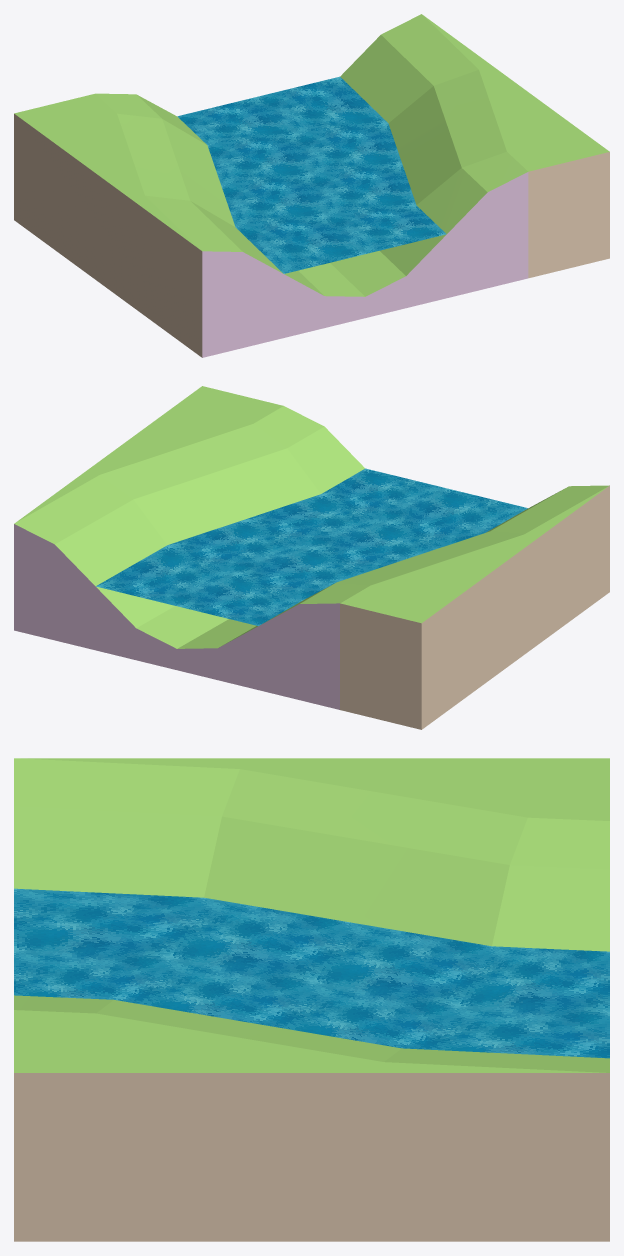
File: River_Esse_Narrow_Gentle_Swerve_Right.glb
The picture shows the model from 3 angles, top to bottom: view 1: azimuth 30°, elevation 25°; view 2: azimuth 150°, elevation 25°; view 3: azimuth 270°, elevation 25°; orthographic projection. The views are drawn at different scales.
Parts seen in each view (by area): view 1: Grass_Hill_Sharp_Esse_4x3 (×2), Terrain_Water_River_Esse_CW_3x4; view 2: Grass_Hill_Sharp_Esse_4x3 (×2), Terrain_Water_River_Esse_CW_3x4; view 3: Grass_Hill_Sharp_Esse_4x3 (×2), Terrain_Water_River_Esse_CW_3x4.
Boxes of the visible parts, box(x1,y1,x2,y2) form: Grass_Hill_Sharp_Esse_4x3 (×2): box(14, 14, 609, 357); Terrain_Water_River_Esse_CW_3x4: box(177, 76, 446, 273); Grass_Hill_Sharp_Esse_4x3 (×2): box(14, 386, 609, 729); Terrain_Water_River_Esse_CW_3x4: box(96, 468, 527, 625); Grass_Hill_Sharp_Esse_4x3 (×2): box(14, 758, 609, 1241); Terrain_Water_River_Esse_CW_3x4: box(14, 888, 609, 1058).
Bounding box in the file's own units: 500 × 125 × 400.
Materials: 6 (1 with a texture image).
